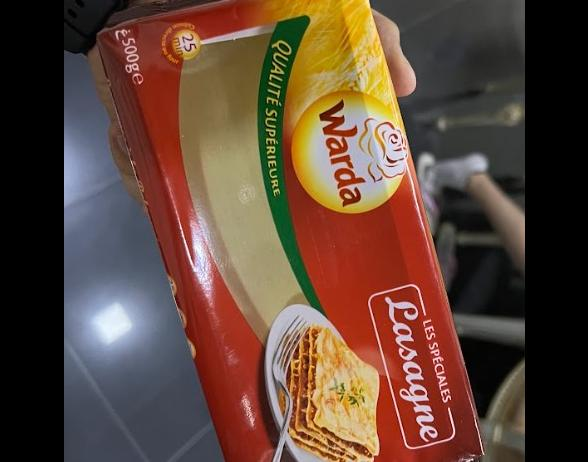lasagne: (102, 0, 483, 462)
